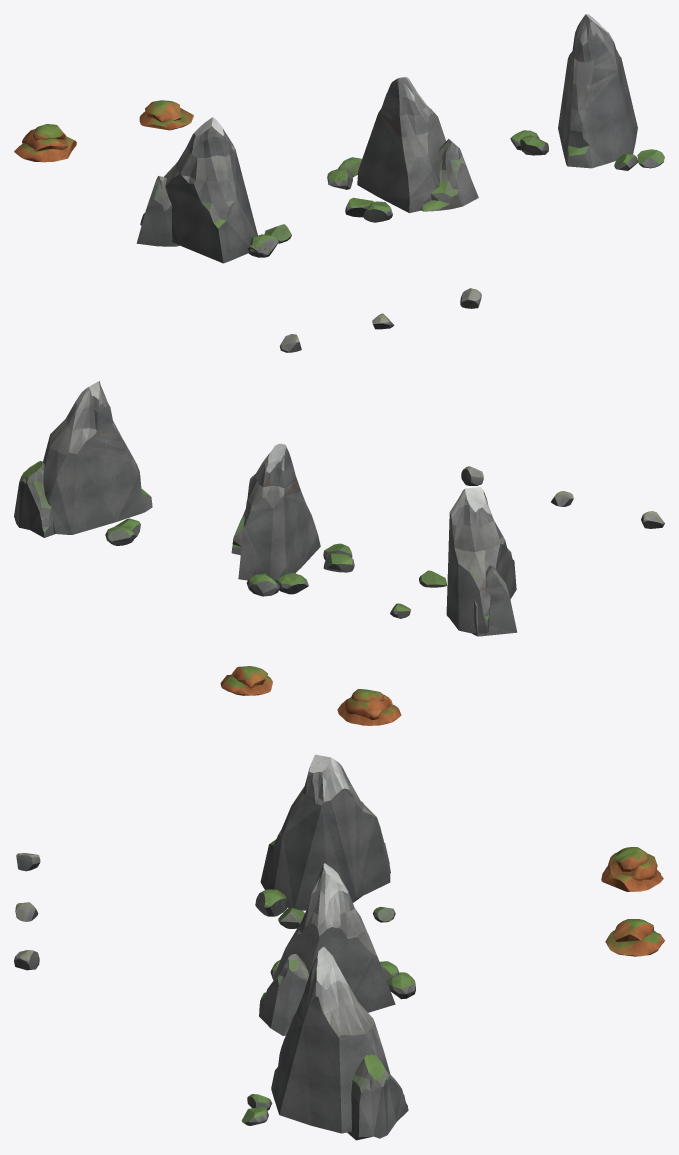
Rendered from rocks.glb.
3 renders of one model, top to bottom at view 1: azimuth 30°, elevation 25°; view 2: azimuth 150°, elevation 25°; view 3: azimuth 270°, elevation 25°, orthographic. The views are drawn at different scales.
Parts seen in each view (by area): view 1: CragB, CragA, CragC, ClayA, ClayB; view 2: CragC, CragB, CragA, ClayA, ClayB; view 3: CragC, CragA, CragB, ClayA, ClayB.
Part boxes in pixels (x1,y1,x2,y2): CragB: (327,77,478,222); CragA: (136,117,291,263); CragC: (510,14,664,170); ClayA: (14,124,76,162); ClayB: (139,100,193,130); CragC: (14,381,152,545); CragB: (231,443,354,596); CragA: (390,487,517,636); ClayA: (337,689,401,725); ClayB: (220,666,272,695); CragC: (241,947,408,1140); CragA: (255,754,395,928); CragB: (259,863,415,1035); ClayA: (601,847,663,891); ClayB: (605,919,664,956).
Size of the model in its own units: 43.61 by 11.72 by 42.97.
Materials: 1 (1 with a texture image).
